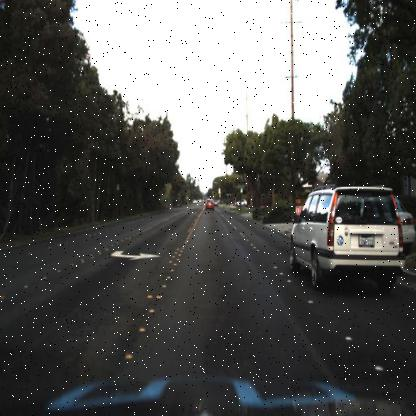car: (287, 179, 410, 291), (232, 194, 250, 210), (203, 194, 215, 215), (234, 194, 249, 210)
